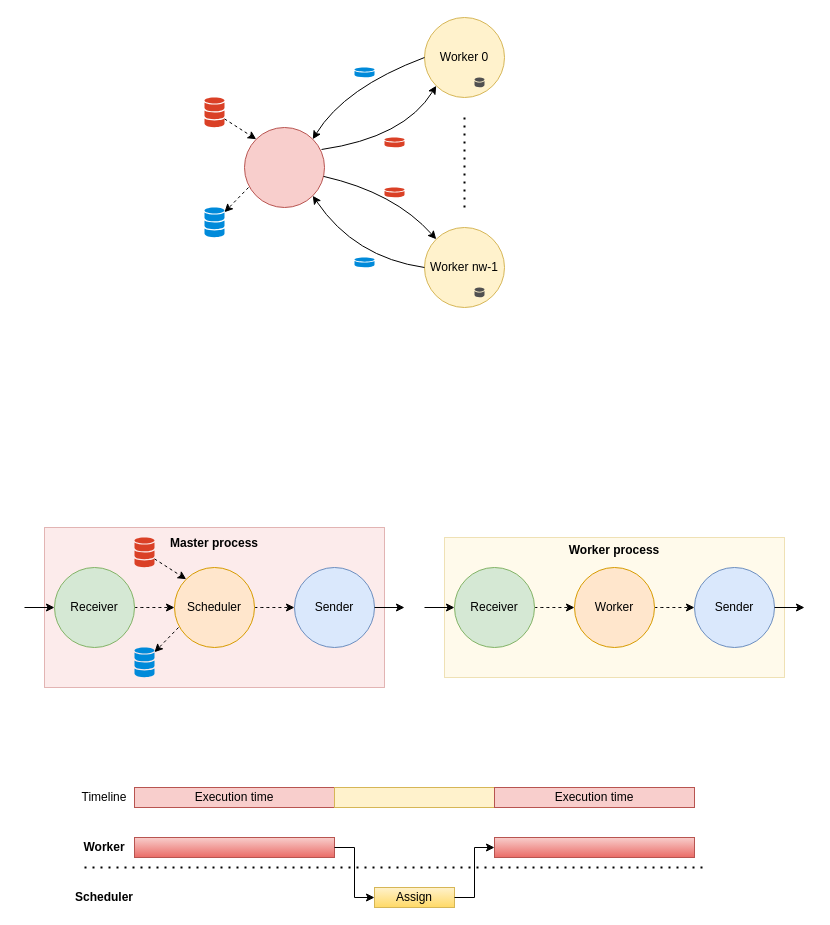
The diagram is 830 pixels wide and 925 high, and some of its shapes have lost their labels. The shapes that lost their labels are listed below. From the top down, each one's centre as x and y in pixels, then its label:
point 284,167: Master
point 414,797: Idle Time
point 234,847: Compute chunk i
point 594,847: Compute chunk i+1
